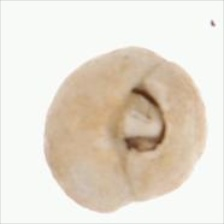L3: (114, 79, 166, 159)
L4: (44, 47, 207, 215)
